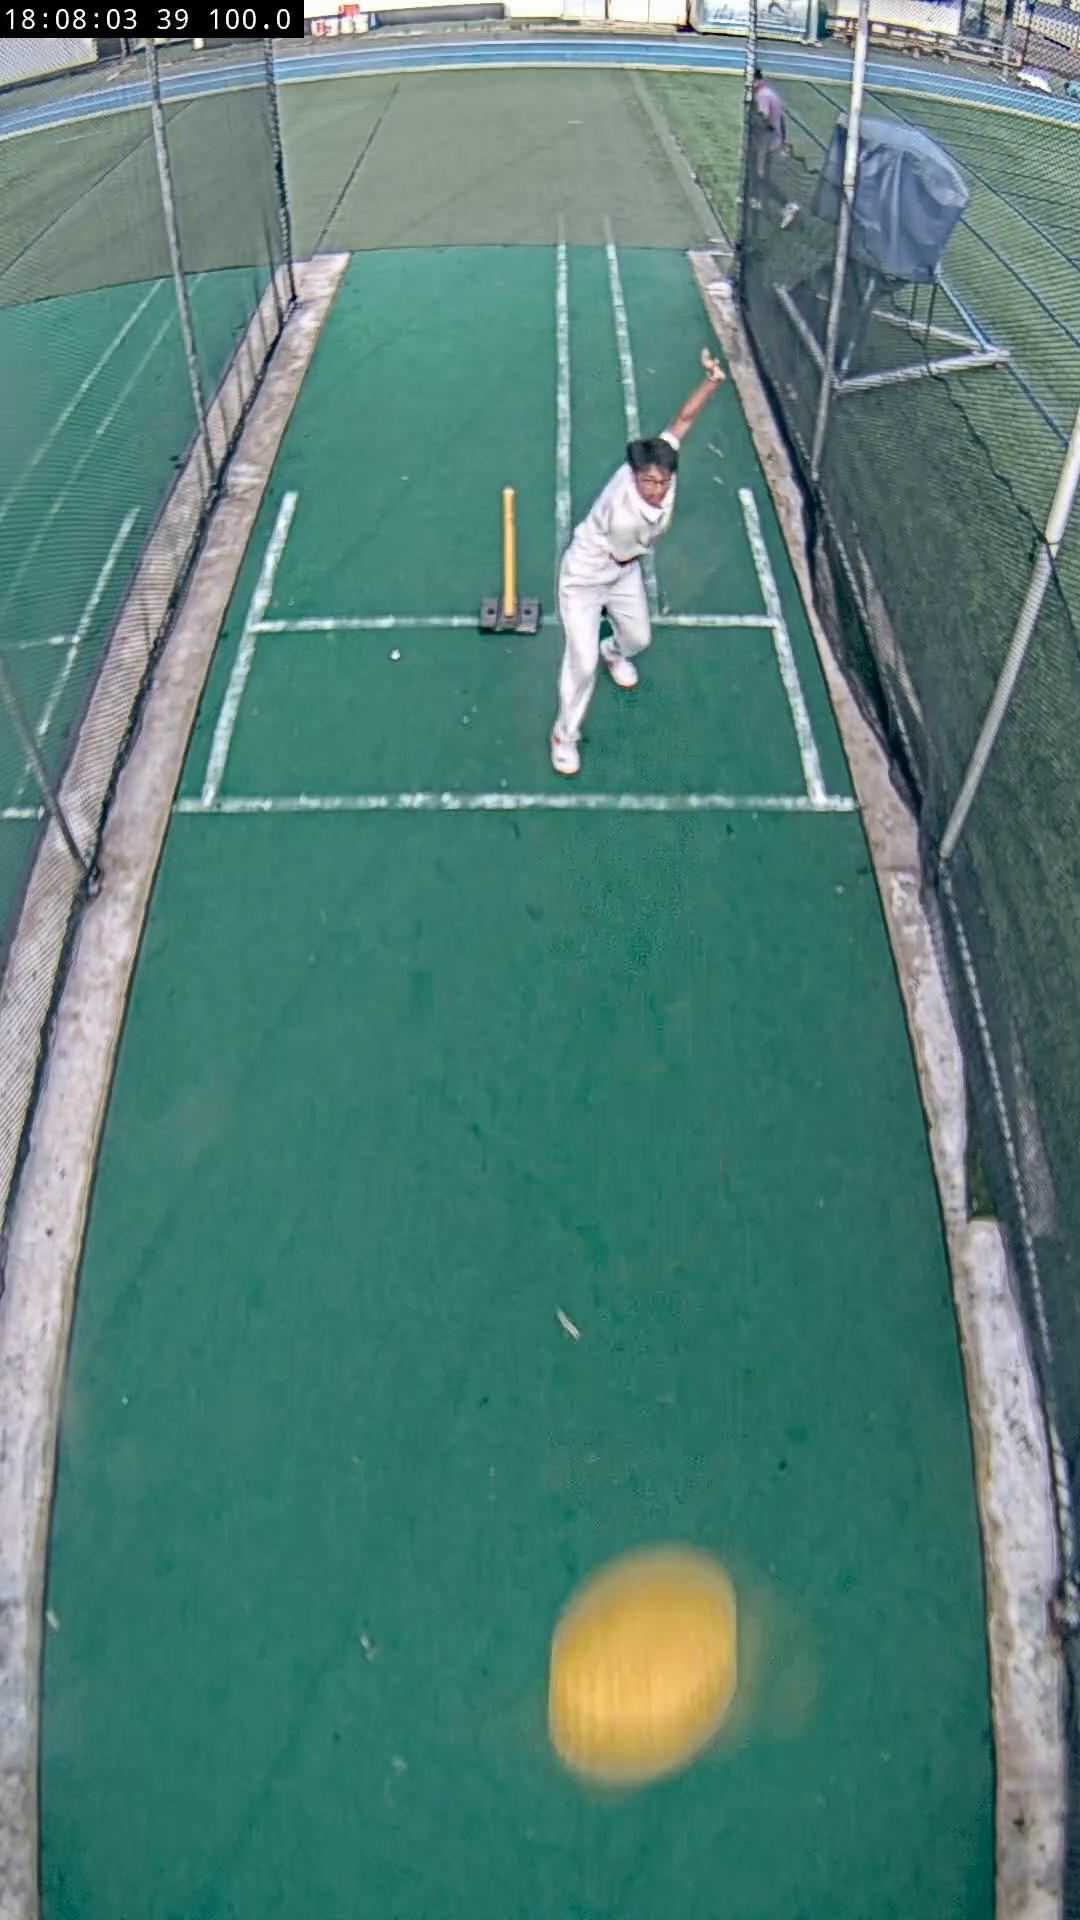ball: (547, 1545, 738, 1785)
stumps: (476, 488, 541, 634)
